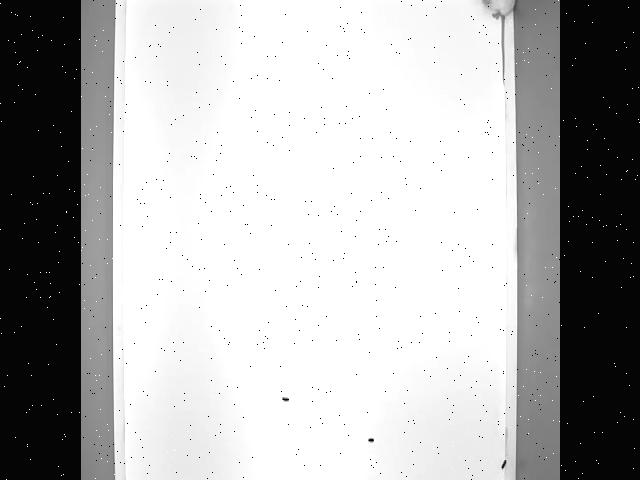Tikus: (477, 0, 518, 88)
